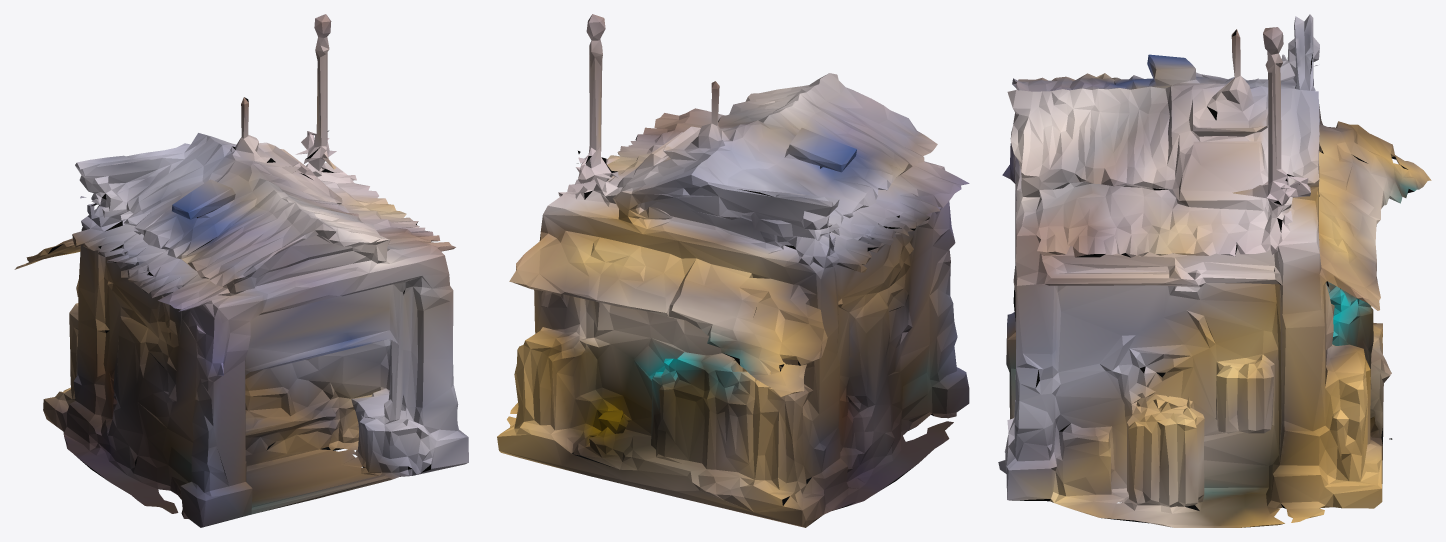
3 views of the same model, side by side, from view 1: azimuth 30°, elevation 25°; view 2: azimuth 150°, elevation 25°; view 3: azimuth 270°, elevation 25° (orthographic). The views are drawn at different scales.
Parts seen in each view (by area): view 1: VC-B01_holder; view 2: VC-B01_holder; view 3: VC-B01_holder.
Part boxes in pixels (x1,y1,x2,y2): VC-B01_holder: (14,14,468,527); VC-B01_holder: (497,14,969,527); VC-B01_holder: (998,14,1431,527).
Size of the model in its own units: 110 by 120 by 103.
Materials: 1 (1 with a texture image).
